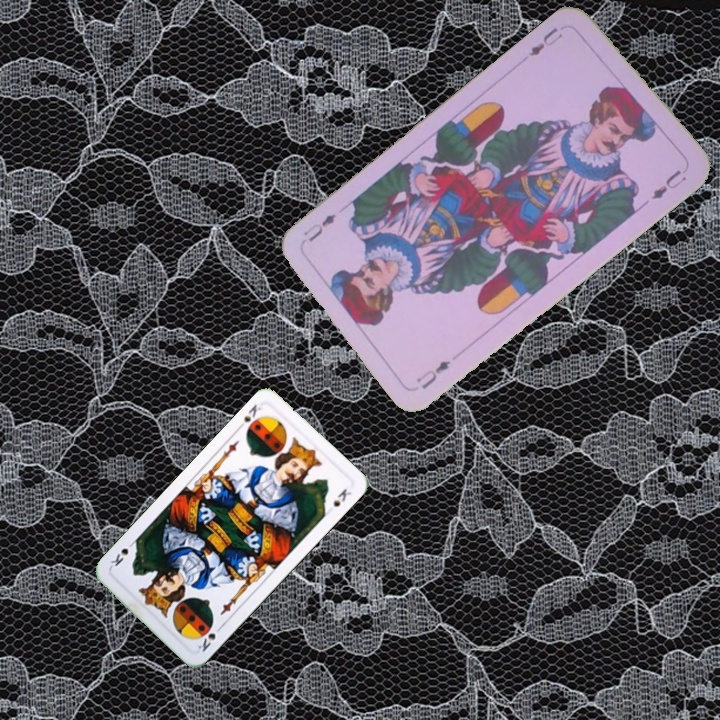EU: (525, 23, 566, 60), (412, 356, 453, 392)
SK: (194, 620, 226, 655), (233, 400, 264, 433)
